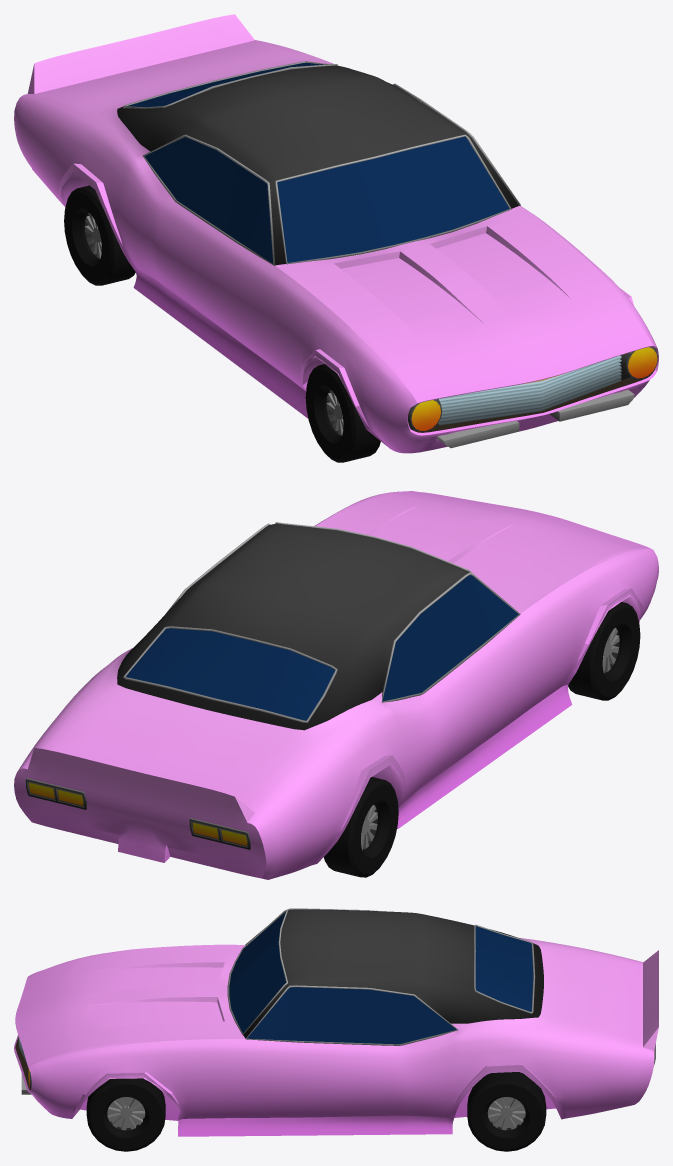
File: araba4.fbx
3 renders of one model, top to bottom at view 1: azimuth 30°, elevation 25°; view 2: azimuth 150°, elevation 25°; view 3: azimuth 270°, elevation 25°, orthographic. The views are drawn at different scales.
Visible parts, largest first — view 1: ön ızgara arkası, ön lastik, ön lastik.001; view 2: ön ızgara arkası, ön lastik.001, ön lastik; view 3: ön ızgara arkası, ön lastik.001, ön lastik.
Part boxes in pixels (x1,y1,x2,y2): ön ızgara arkası: (14,14,658,453); ön lastik: (305,364,380,462); ön lastik.001: (64,185,135,285); ön ızgara arkası: (14,491,658,879); ön lastik.001: (324,777,398,877); ön lastik: (568,602,640,700); ön ızgara arkası: (14,908,658,1136); ön lastik.001: (467,1072,546,1151); ön lastik: (86,1078,165,1151).
Size of the model in its own units: 2.51 by 1.62 by 6.01.
3 materials, 1 textured.
